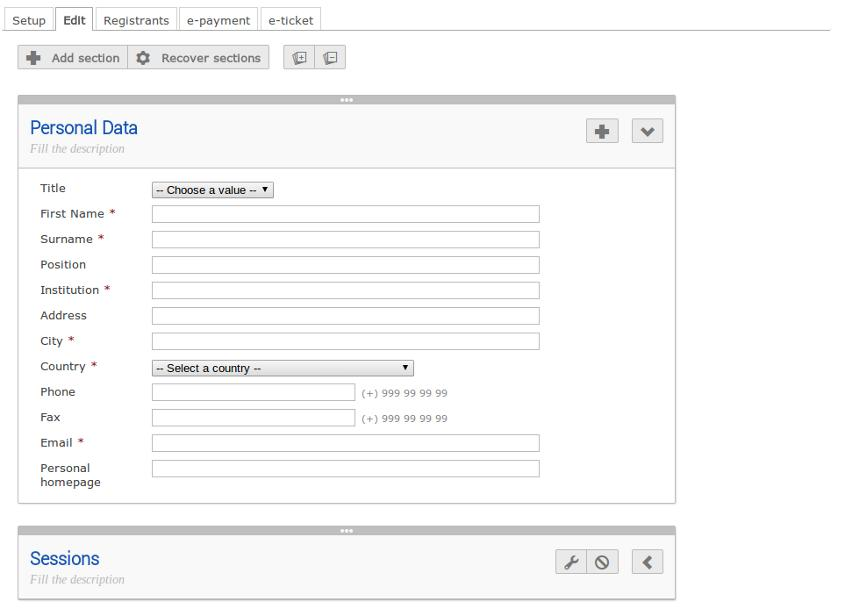button: (625, 536, 673, 585), (584, 541, 623, 582), (580, 117, 624, 148), (551, 544, 589, 575)
dropdown: (146, 354, 422, 379), (145, 178, 279, 201)
